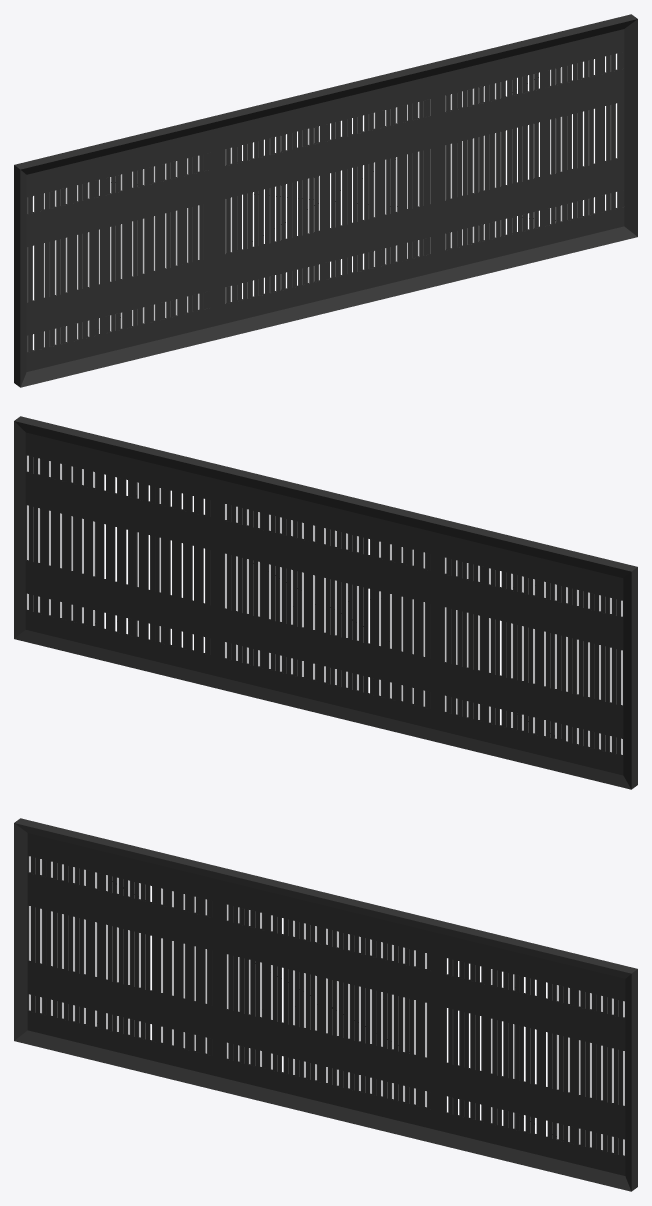
File: Gate.fbx
3 views of the same model, one above another, from view 1: azimuth 30°, elevation 25°; view 2: azimuth 150°, elevation 25°; view 3: azimuth 330°, elevation 25° (orthographic).
Visible parts, largest first — view 1: Gate; view 2: Gate; view 3: Gate.
Boxes of the visible parts, box(x1,y1,x2,y2) form: Gate: box(14, 14, 637, 387); Gate: box(14, 416, 637, 789); Gate: box(14, 818, 637, 1191).
Size of the model in its own units: 593 by 200 by 10.77.
